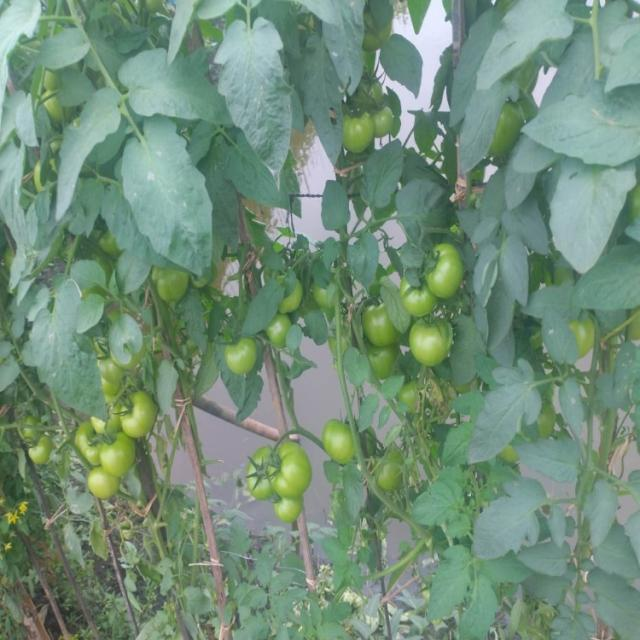tomato: (412, 305, 470, 373), (269, 435, 321, 508), (110, 386, 169, 440), (91, 432, 138, 489), (426, 241, 468, 301), (491, 97, 530, 161), (237, 444, 280, 500), (318, 416, 361, 469), (337, 107, 376, 160), (366, 97, 407, 146), (150, 263, 193, 304), (225, 338, 264, 380), (375, 455, 408, 504), (399, 277, 434, 322), (78, 421, 112, 467), (363, 300, 399, 336), (273, 491, 308, 527), (27, 425, 53, 469), (372, 342, 401, 380), (283, 280, 311, 319), (86, 469, 123, 495), (267, 324, 288, 348)
